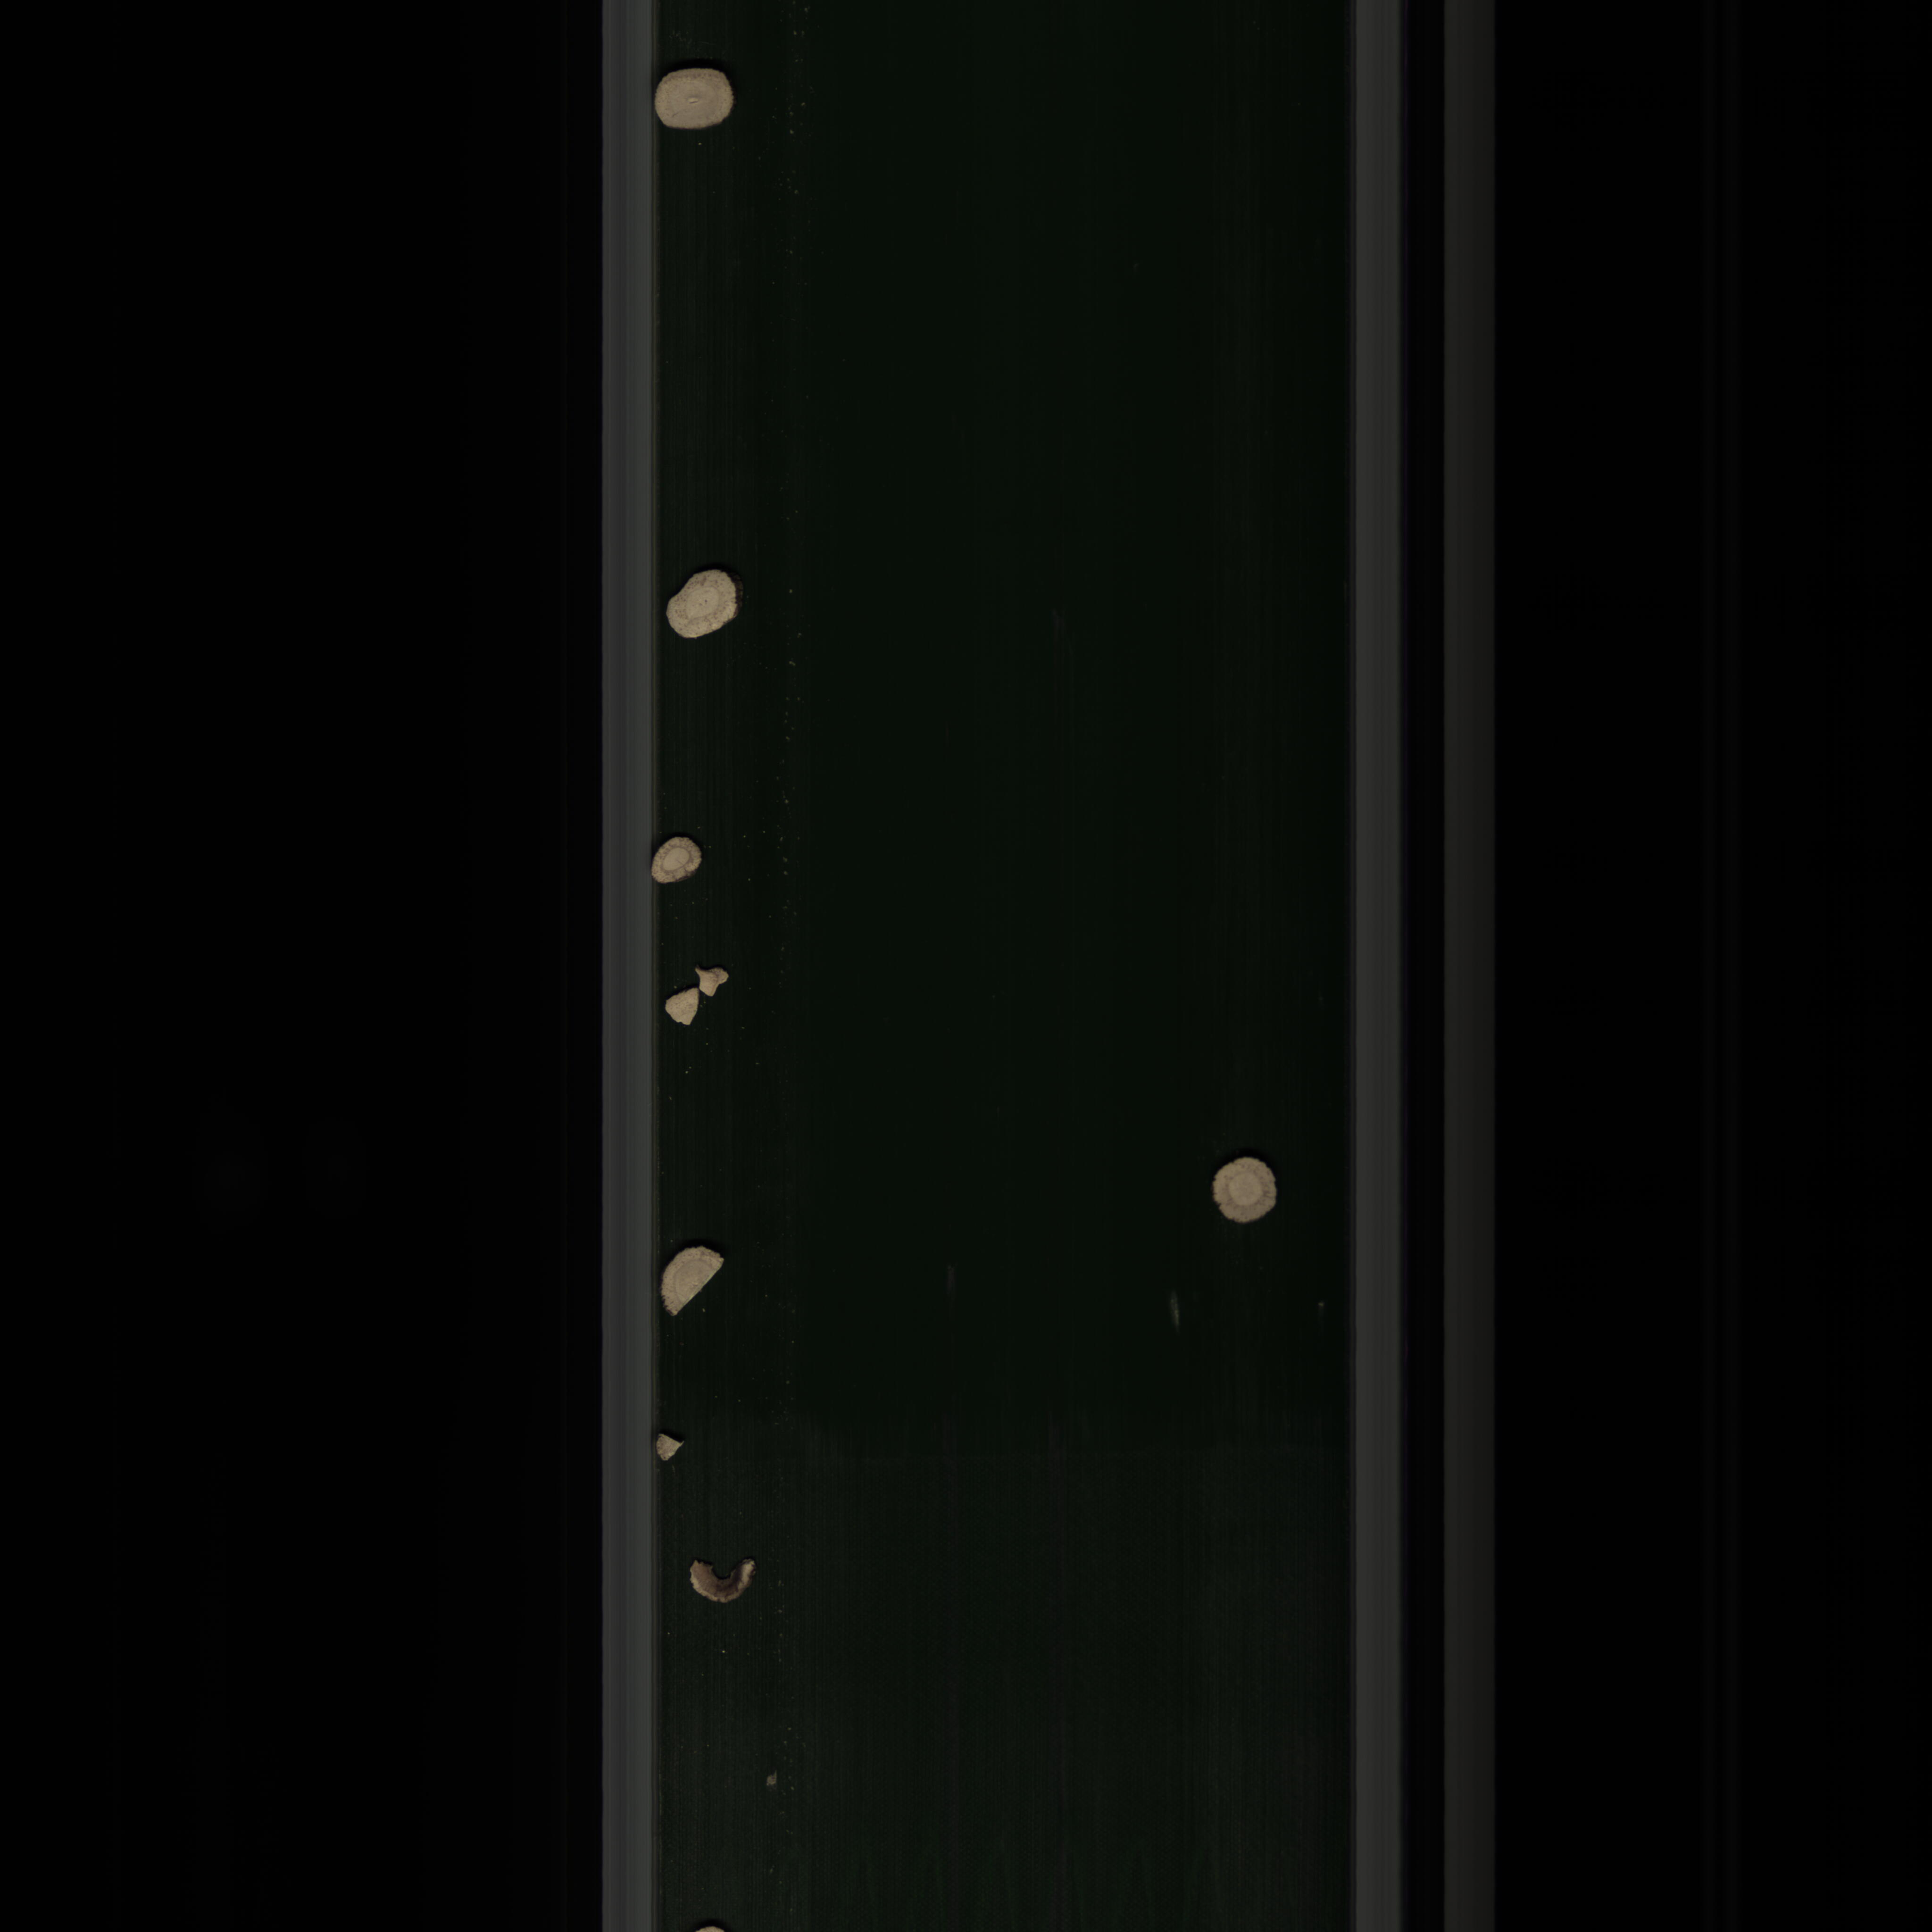debris: (660, 1242, 729, 1316), (658, 987, 711, 1026), (683, 959, 732, 998), (651, 1422, 685, 1467)
moldy: (678, 1550, 764, 1615)
